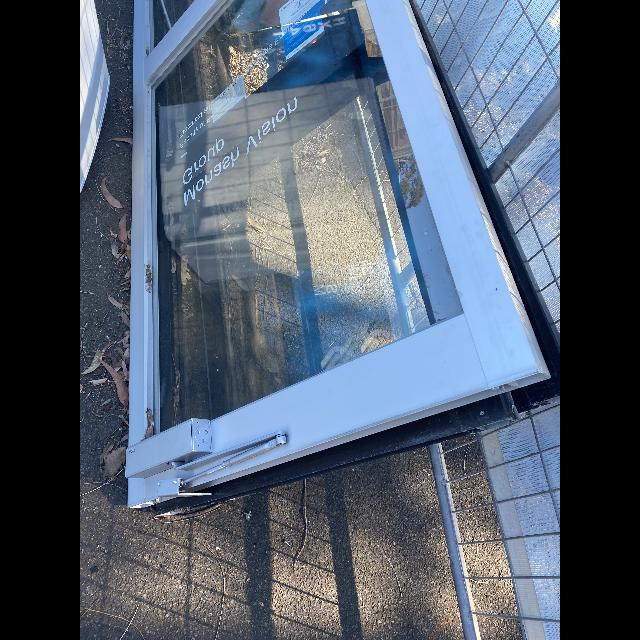Aluminium: (124, 0, 551, 508)
Ferrous Metal: (80, 0, 109, 183)
Galvanized Steel: (428, 443, 482, 640), (487, 78, 560, 184)
